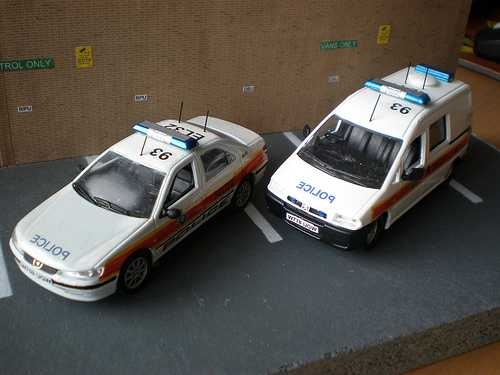Police Car: (34, 104, 239, 296), (292, 66, 466, 258)
